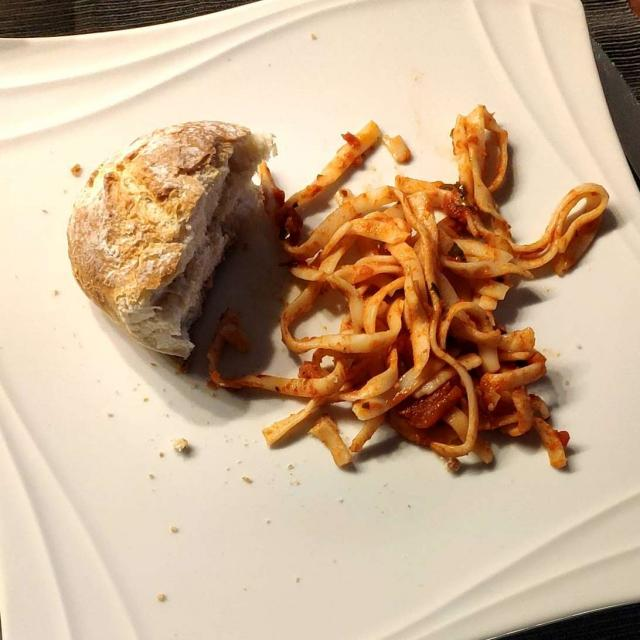pasta-noodles: (180, 107, 601, 491)
